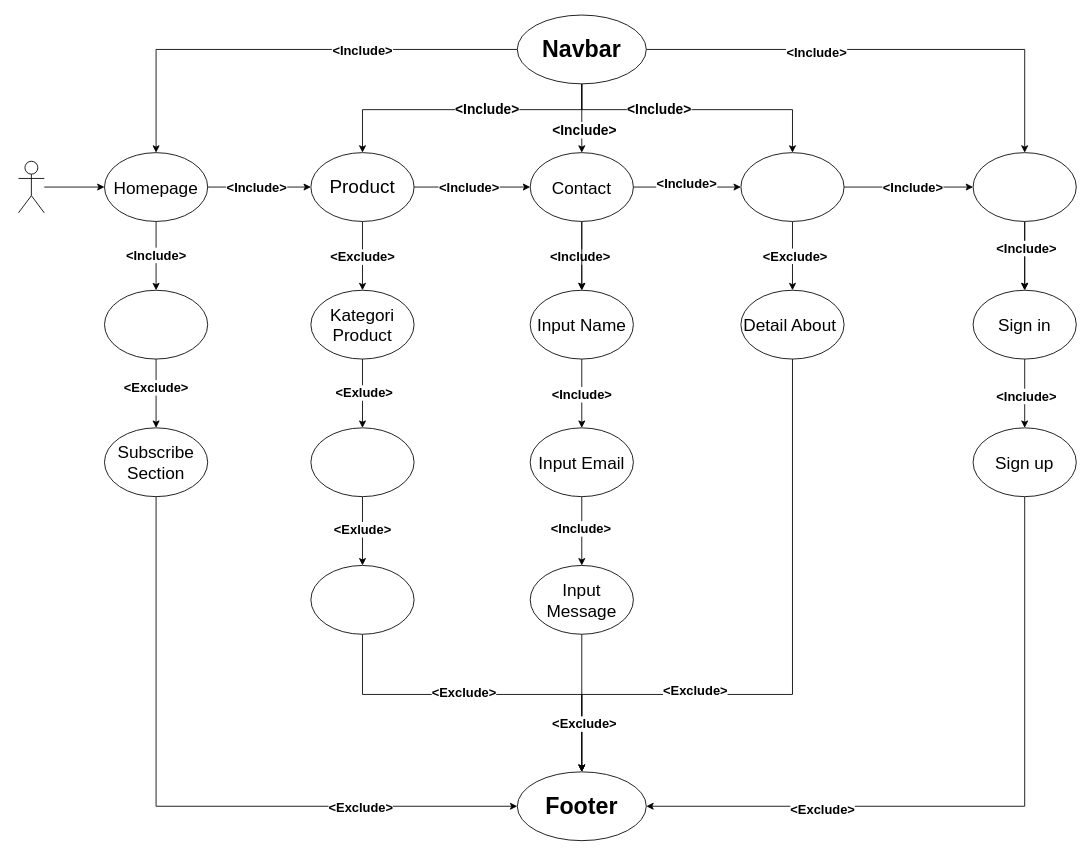
Image size: 1091x856. Some labels were removed from this diagram. Here are the shapes that lost their labels. From the top down, the centre of each, then its label:
At [31,186]: "User".
At [792,186]: "About".
At [1024,186]: "User Login".
At [156,324]: "Main Detail".
At [362,462]: "Detail Product".
At [362,599]: "Detail Feature".
